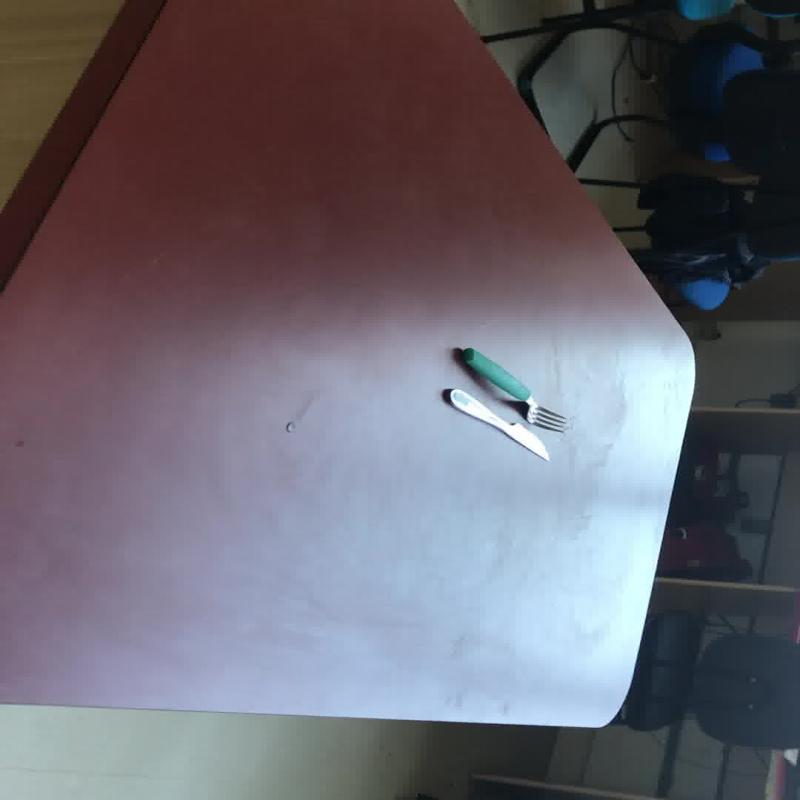fork: (458, 346, 569, 432)
knife: (442, 386, 550, 462)
